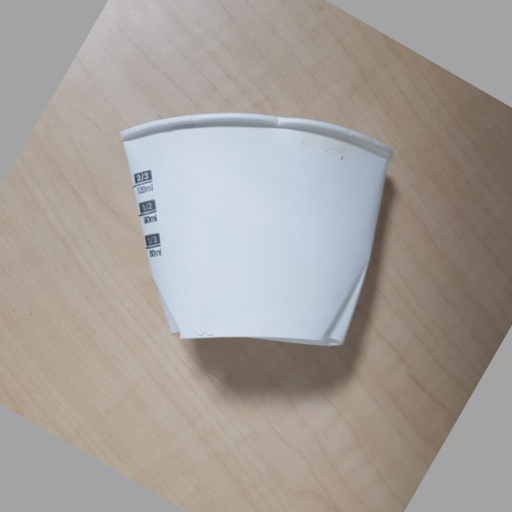Paper_1: (119, 110, 395, 351)
